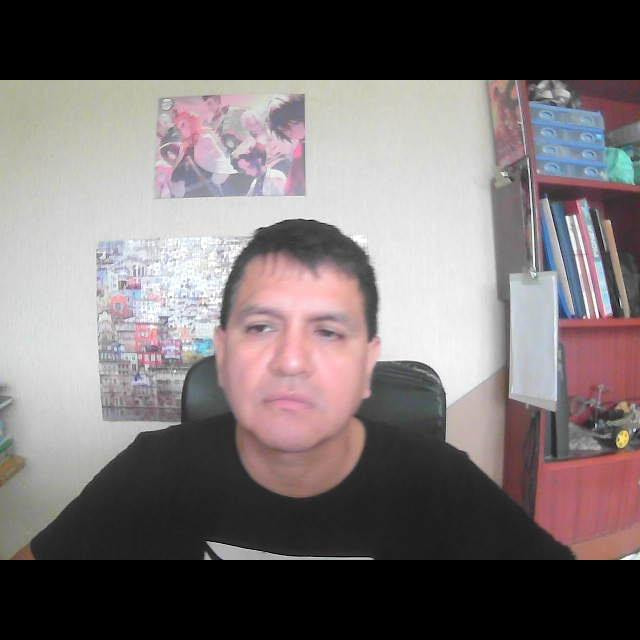cesar: (195, 206, 402, 507)
